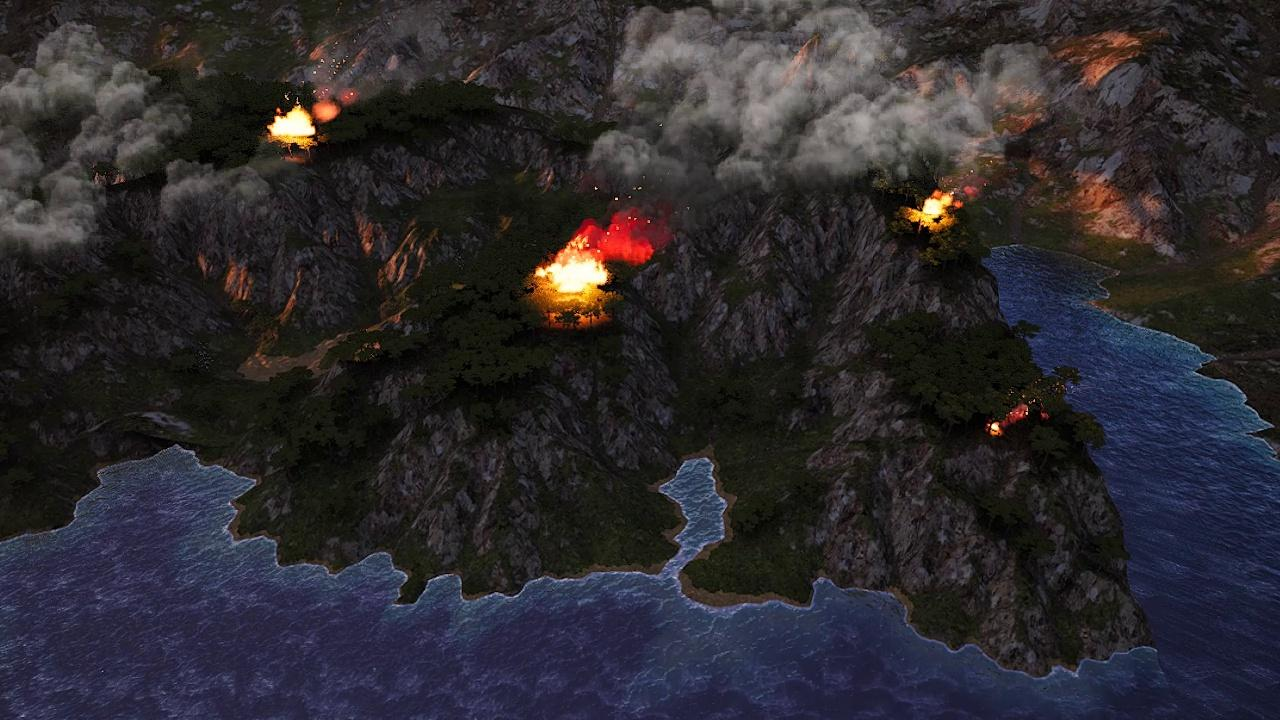fire: (539, 234, 613, 300), (270, 106, 318, 141), (912, 189, 957, 224), (985, 404, 1032, 432)
smoke: (605, 0, 1096, 191), (0, 18, 264, 263), (572, 206, 673, 265), (316, 32, 381, 122)
